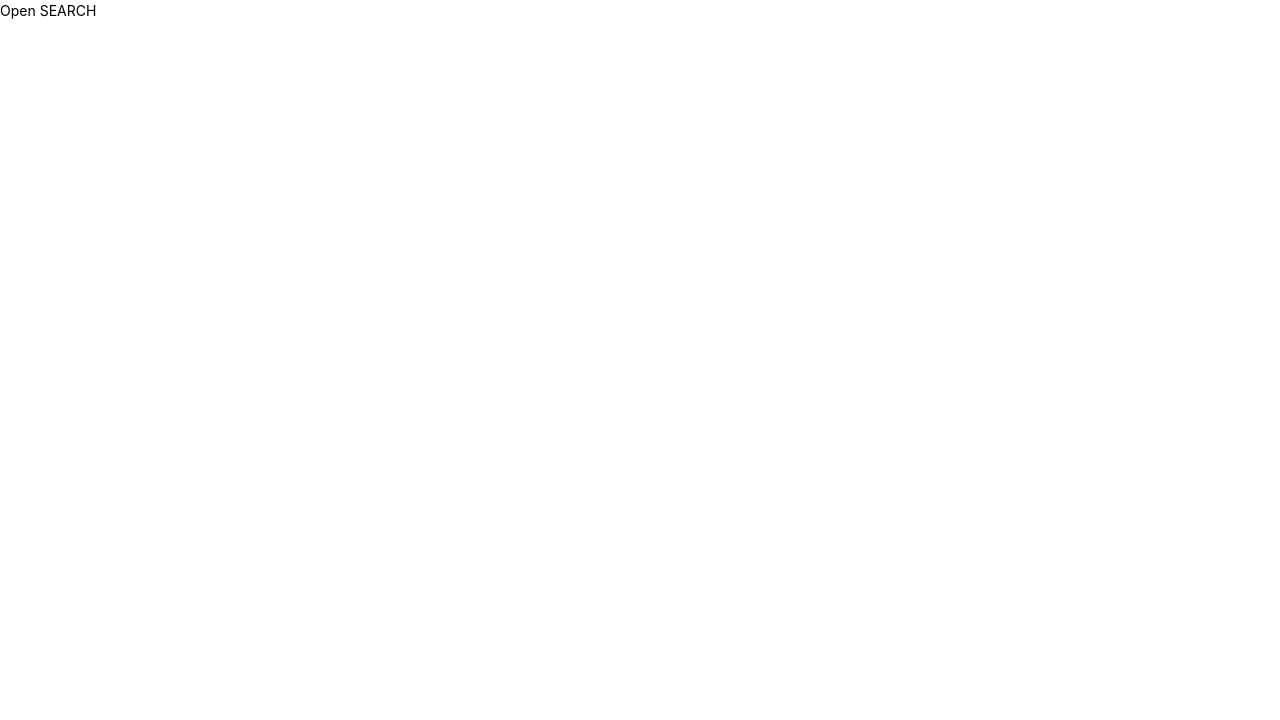
Test case: global search dialog › opens with the shortcut, finds a section by Thai alias and opens it through the router
Press k
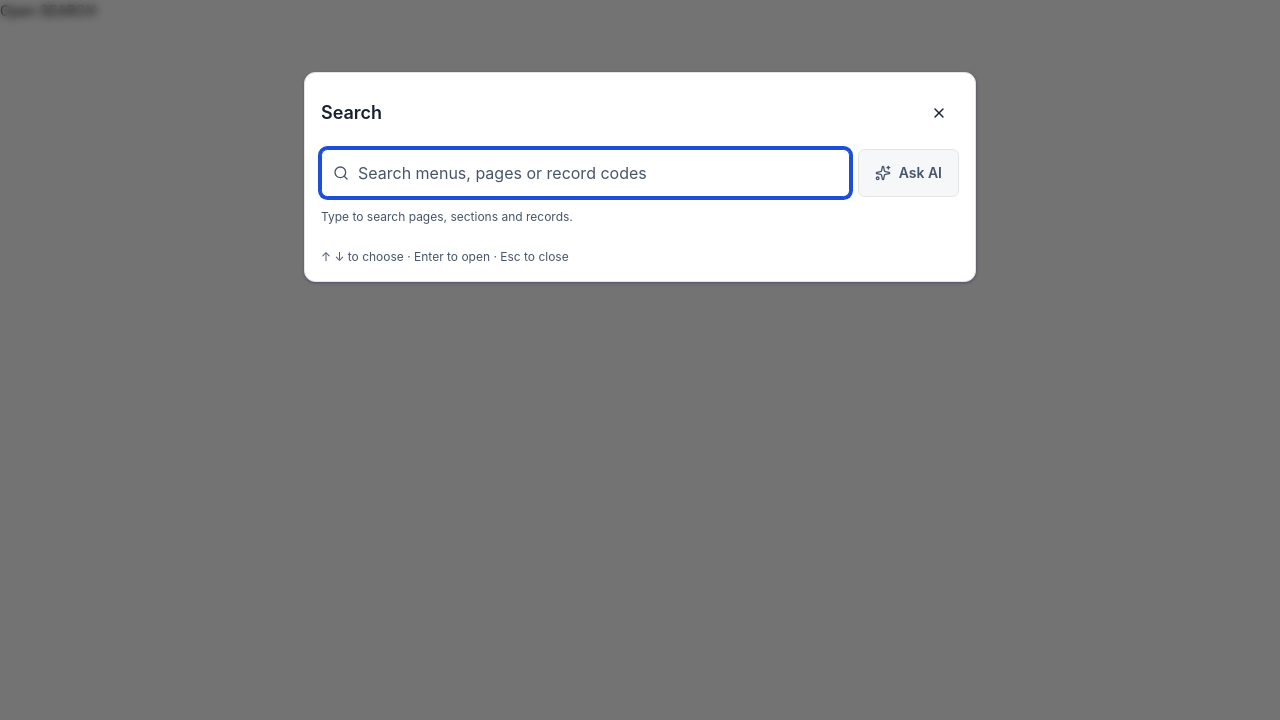
Expected: the dialog is shown, [304,72,976,282]
Type "วันหยุด" into the dropdown labelled "Search" at (585, 173), box [321,149,850,197]
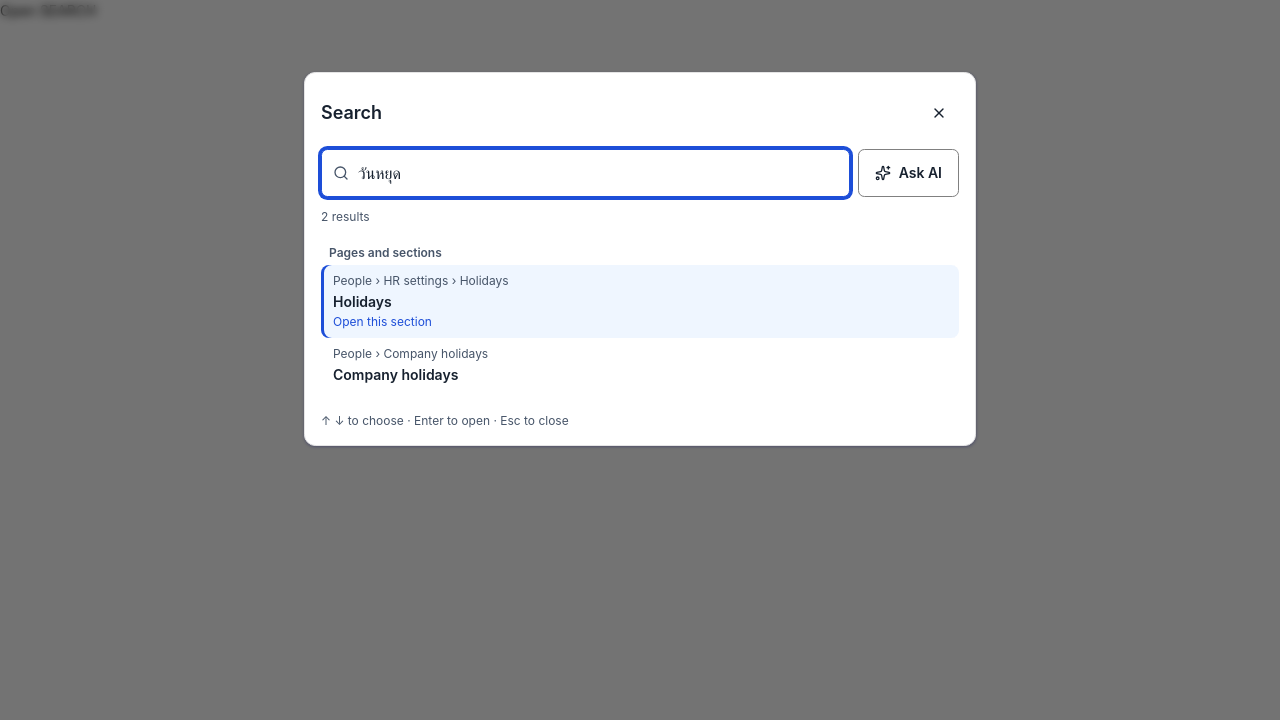
Expected: the option "People › HR settings › Holidays Holidays Open this section" is shown, [321,265,959,338]
Press Enter in the dropdown named "Search", box [321,149,850,197]
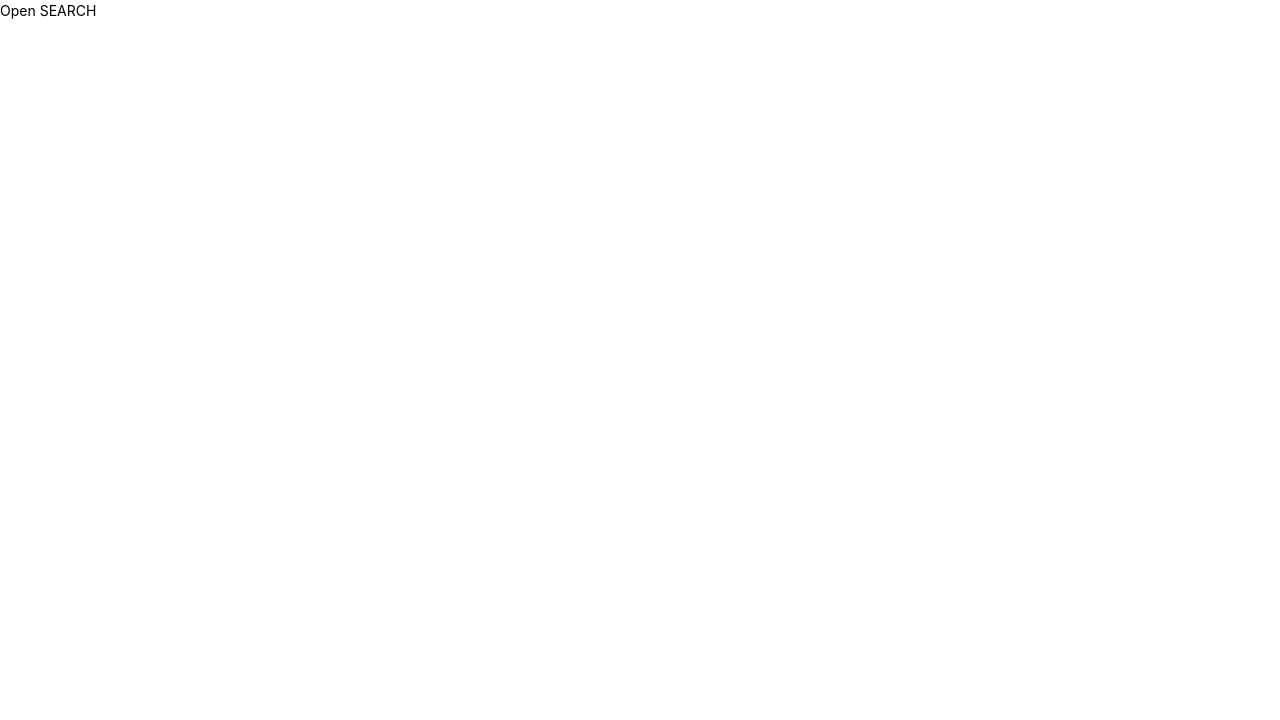
Expected: the dialog is gone
